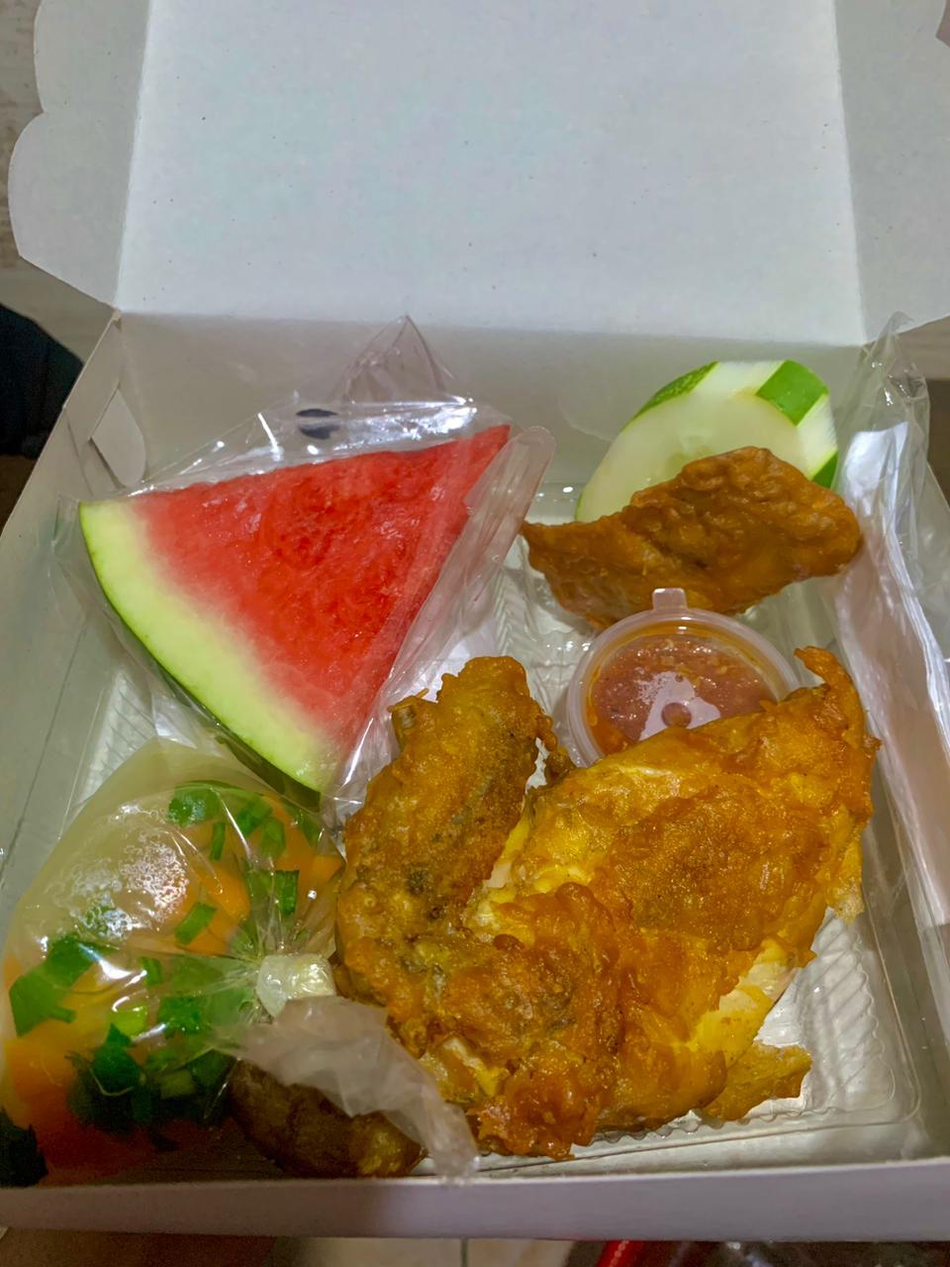buah_sayur_lainnya: (673, 380, 794, 446)
buah_sayur_vitA: (19, 842, 273, 1101), (164, 505, 412, 659)
daging: (420, 771, 754, 1070)
kacang_legume: (658, 493, 797, 575)
